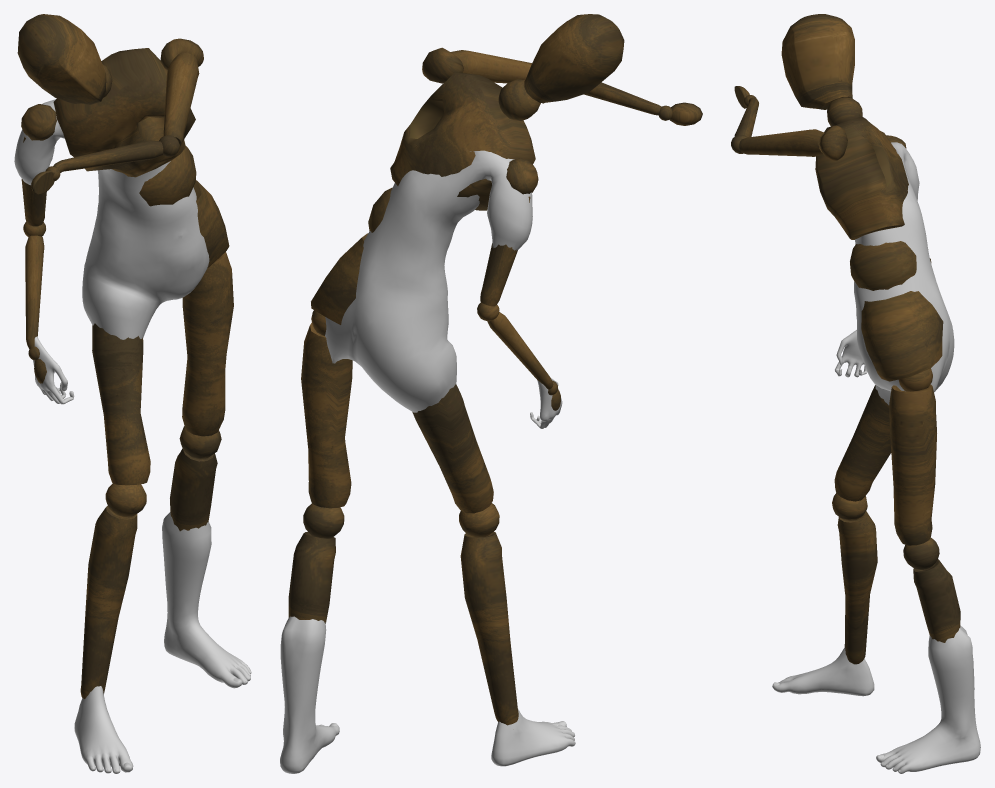
Rendered from enemigo1_pose7.fbx.
3 views of the same model, side by side, from view 1: azimuth 30°, elevation 25°; view 2: azimuth 150°, elevation 25°; view 3: azimuth 270°, elevation 25° (orthographic). The views are drawn at different scales.
Visible parts, largest first — view 1: dummy_obj.003, Body.004; view 2: dummy_obj.003, Body.004; view 3: dummy_obj.003, Body.004.
Part boxes in pixels (<box>): dummy_obj.003: <box>17,14,233,698</box>; Body.004: <box>14,99,251,773</box>; dummy_obj.003: <box>288,14,702,725</box>; Body.004: <box>280,150,575,773</box>; dummy_obj.003: <box>731,14,960,664</box>; Body.004: <box>772,142,980,773</box>.
Size of the model in its own units: 70.34 by 161 by 55.77.
